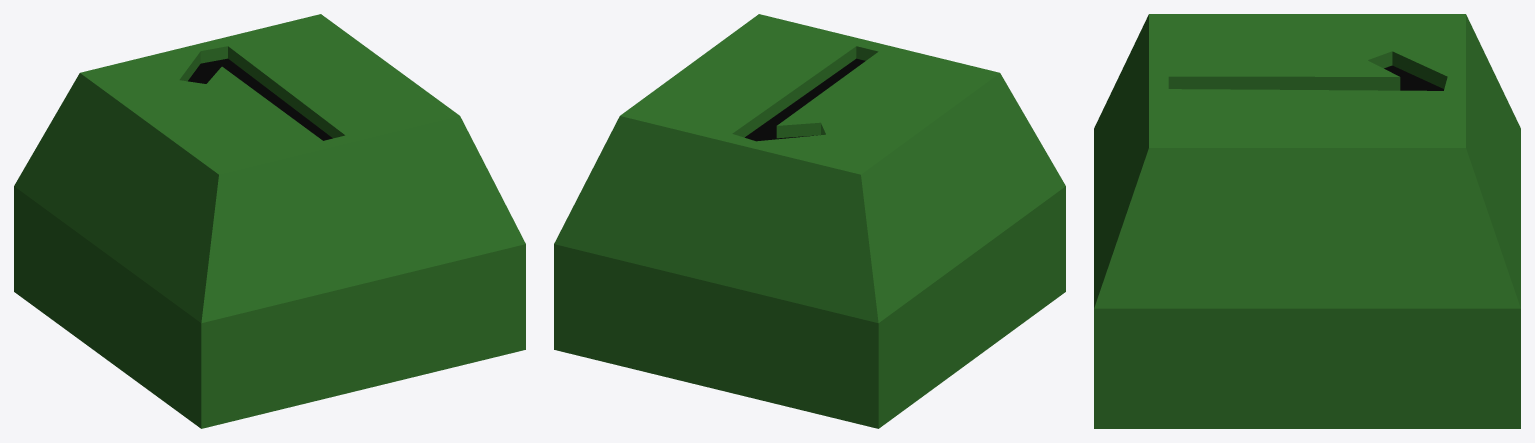
Rendered from Numero1.fbx.
The picture shows the model from 3 angles, left to right: view 1: azimuth 30°, elevation 25°; view 2: azimuth 150°, elevation 25°; view 3: azimuth 270°, elevation 25°; orthographic projection. The views are drawn at different scales.
Visible parts, largest first — view 1: Cubo1; view 2: Cubo1; view 3: Cubo1.
Boxes of the visible parts, x1,y1,x2,y2 form: Cubo1: [14, 14, 525, 428]; Cubo1: [554, 14, 1065, 428]; Cubo1: [1094, 14, 1520, 428].
Size of the model in its own units: 15 by 10 by 15.
